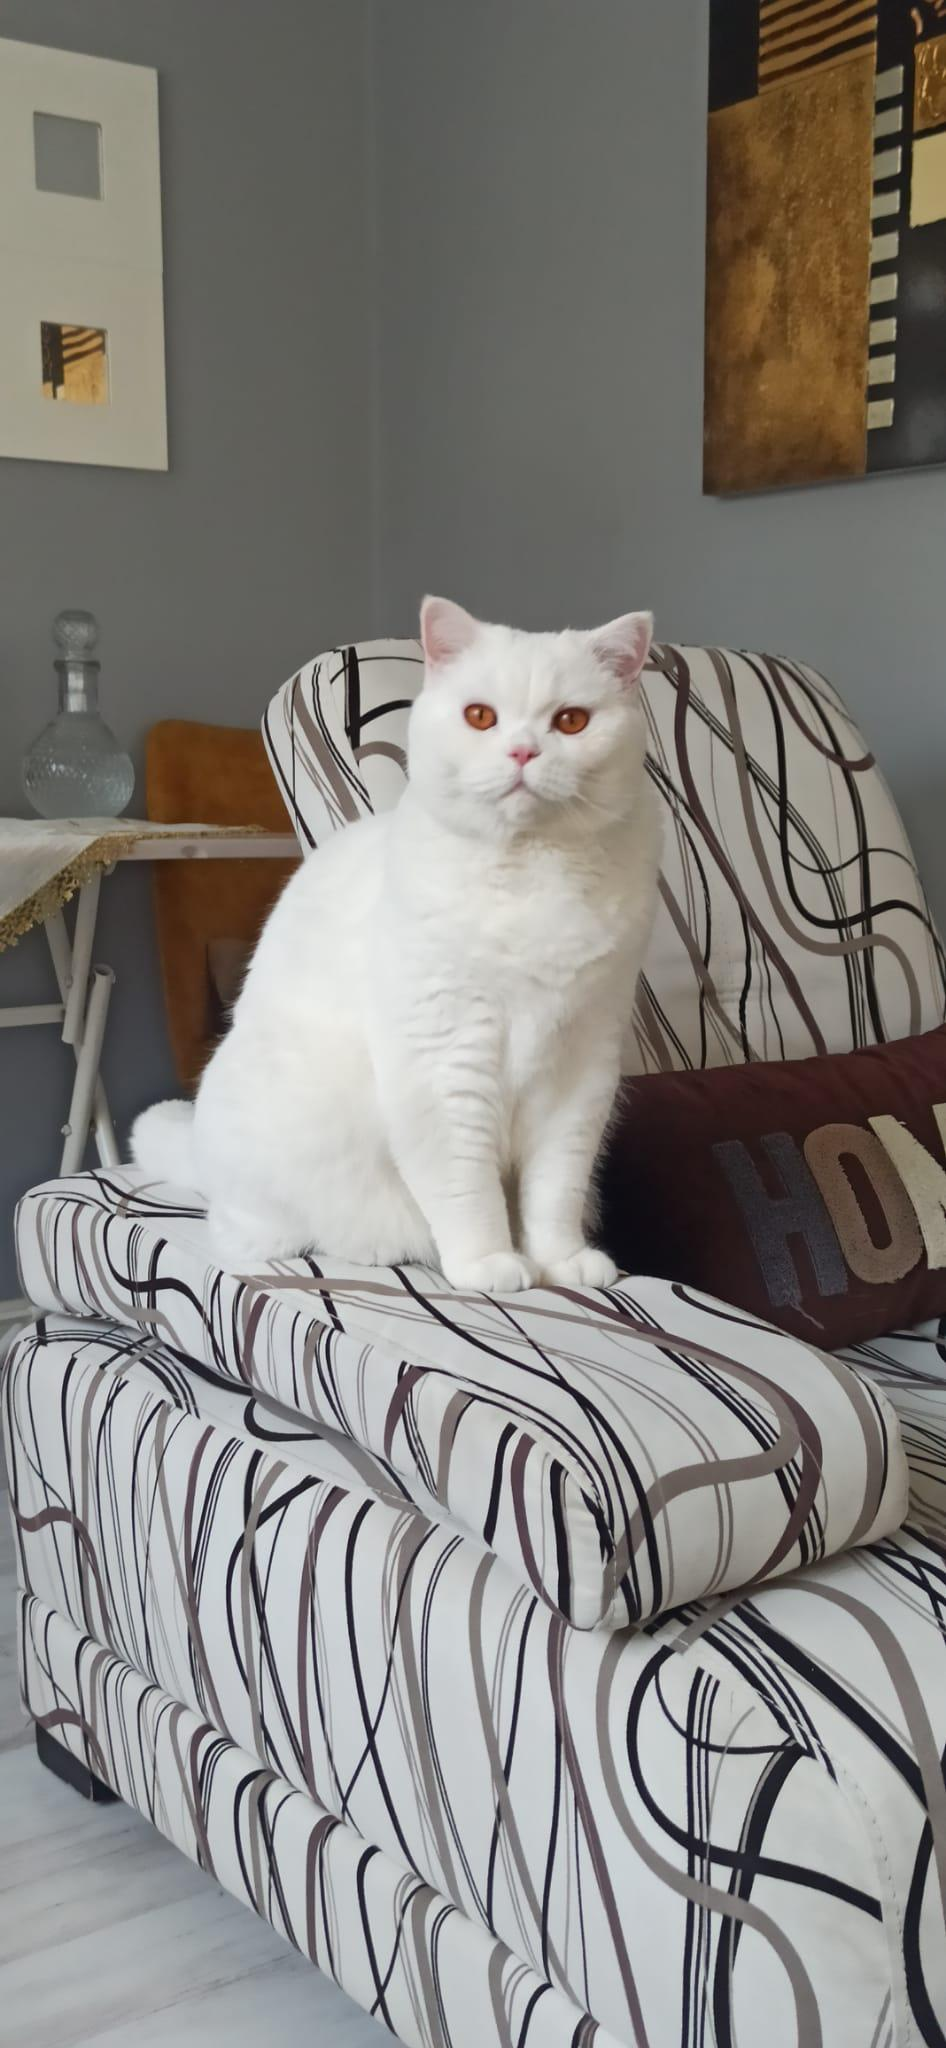kedo: (128, 601, 662, 1296)
